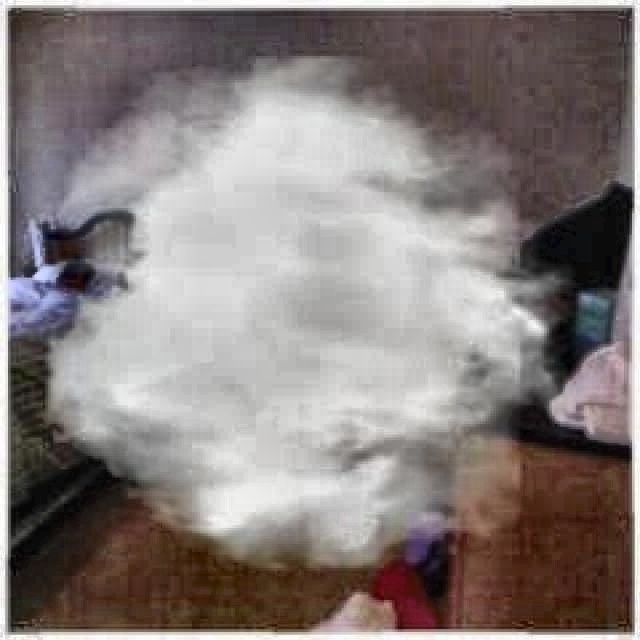smoke: (92, 114, 487, 553)
